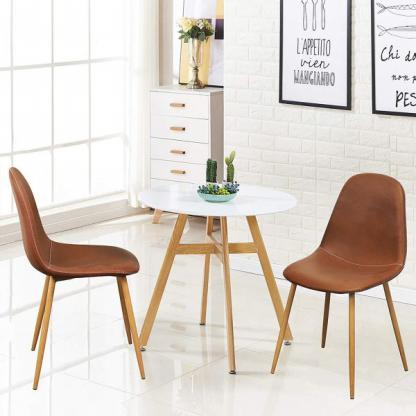chair: (267, 169, 416, 403), (4, 168, 148, 393)
table: (137, 185, 282, 377)
